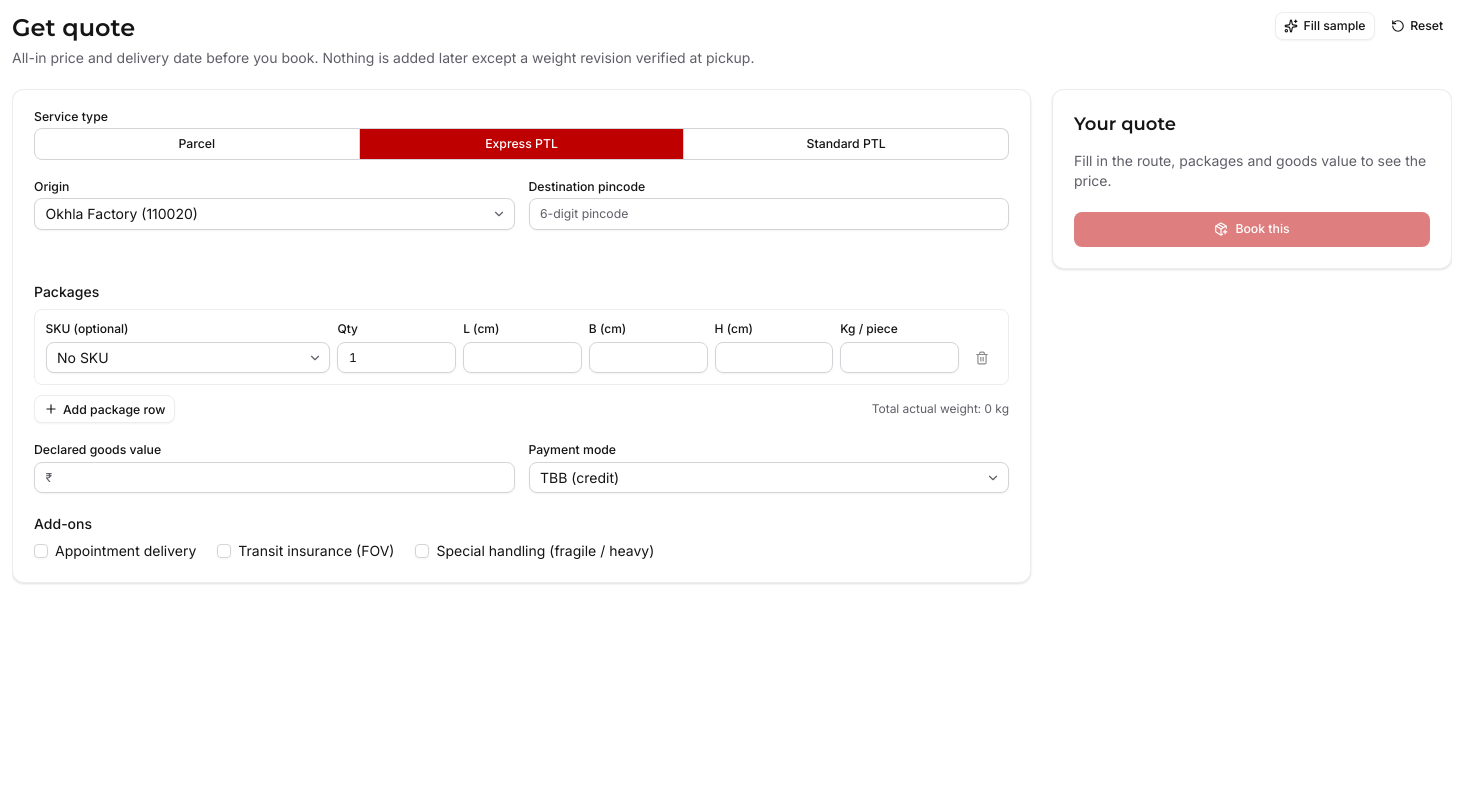
Test: CP-12 Get quote › reacts to inputs: dropping the appointment removes ₹300 (+ GST)
Click the button "Fill sample". click: click(1325, 26)
box: [1274,12,1375,40]
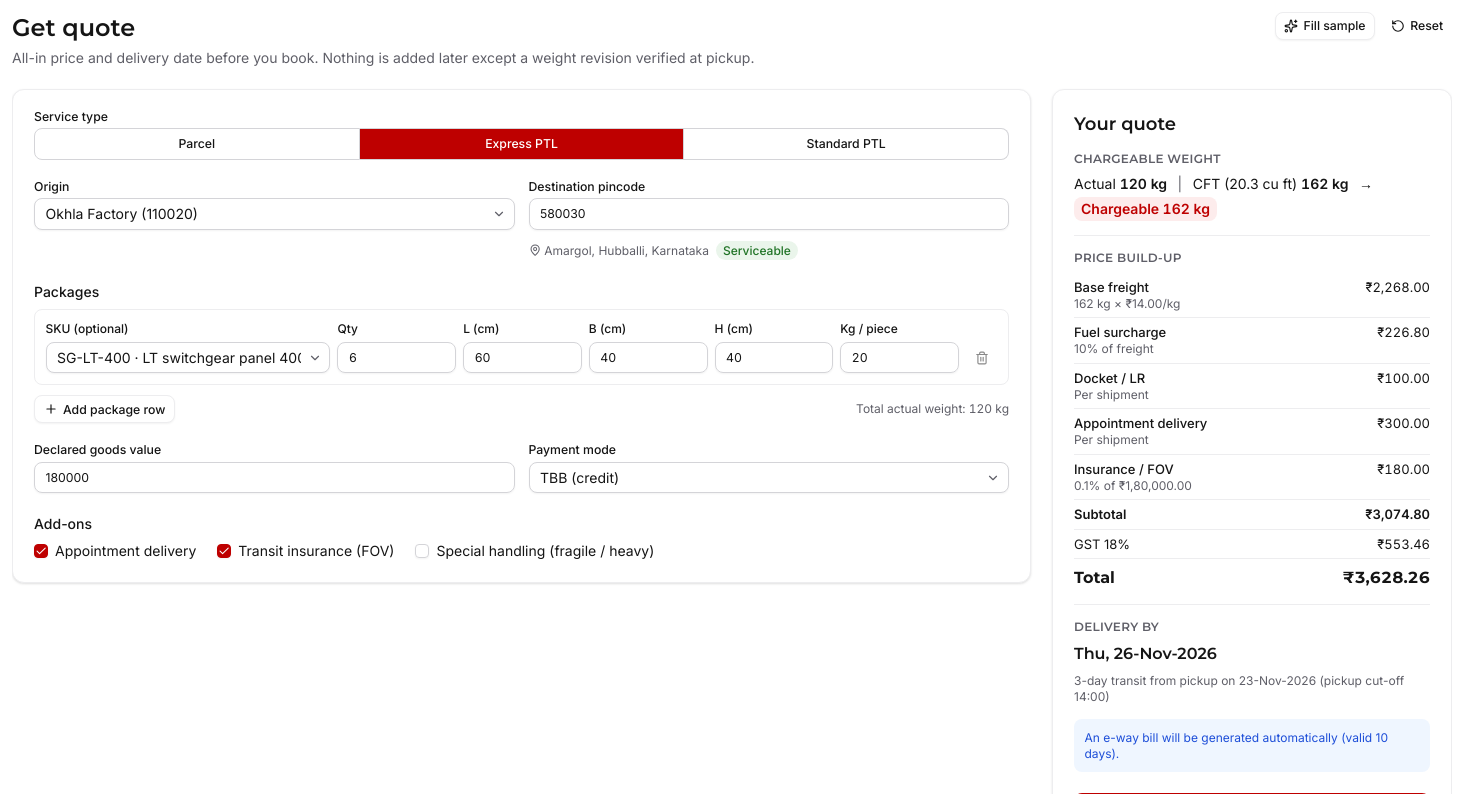
Click the 1st checkbox named "Appointment delivery". click: click(41, 551)
box: [34,544,48,558]
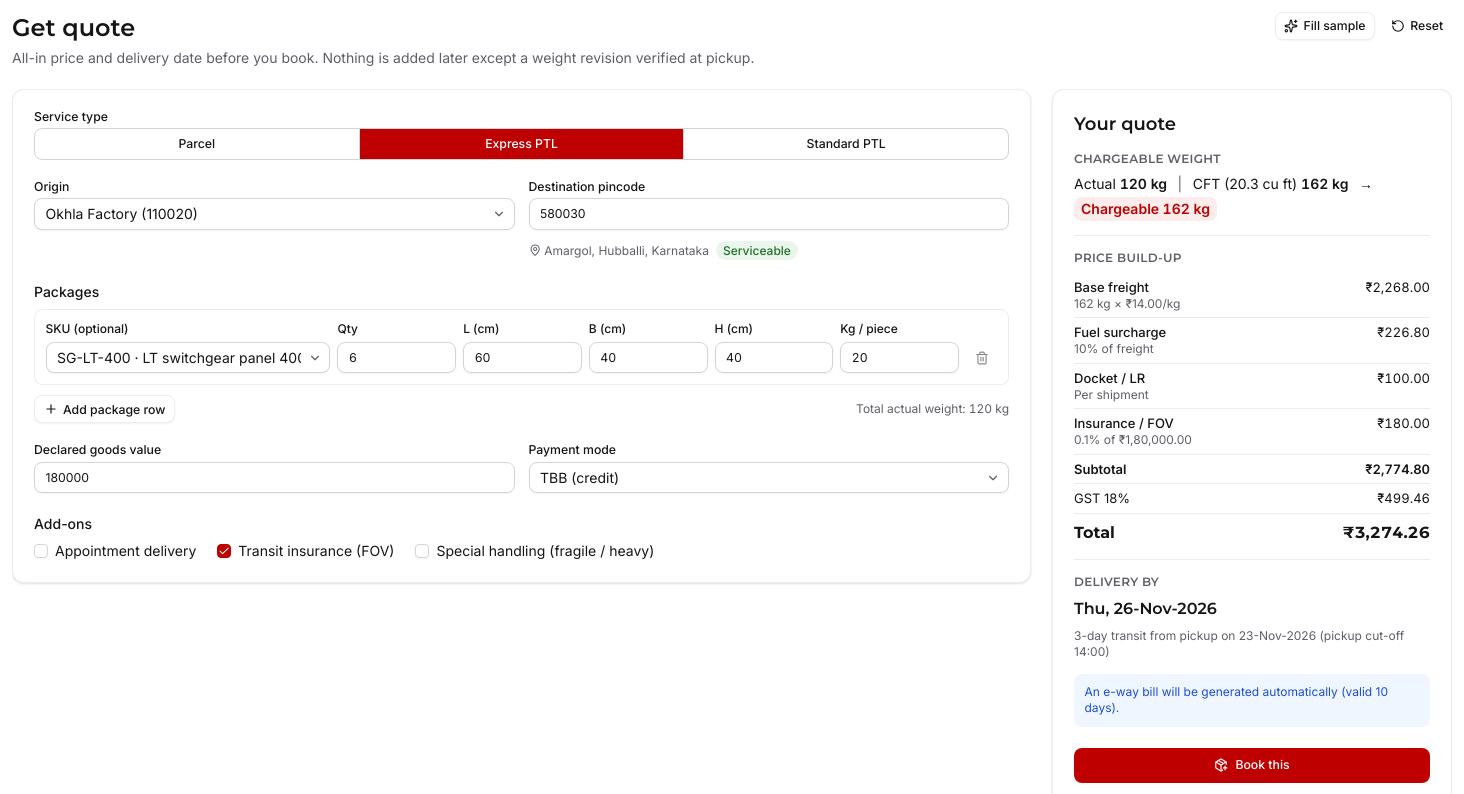
Now the cell with test id "price-total" reads "₹3,274.26", box [1343,522,1430,542]
